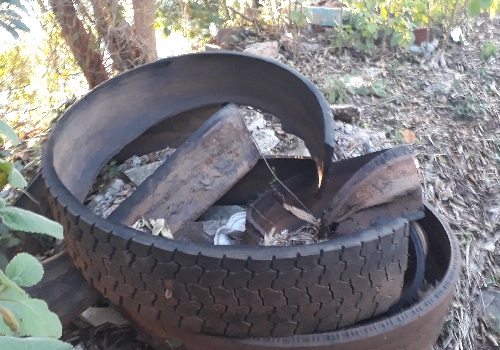trash: (51, 73, 464, 339)
